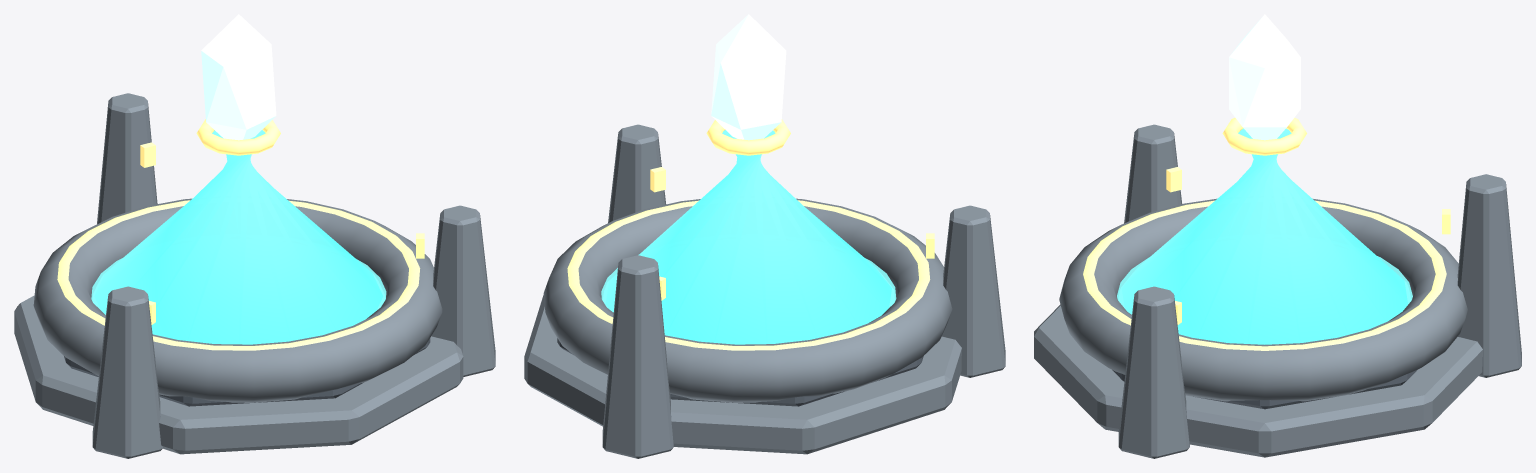
File: Portal.glb
3 views of the same model, side by side, from view 1: azimuth 30°, elevation 25°; view 2: azimuth 150°, elevation 25°; view 3: azimuth 270°, elevation 25° (orthographic).
Visible parts, largest first — view 1: Cone, Torus, Cylinder, Cone.001, Cone.002, Icosphere, Cone.003, Torus.001, Torus.002, Cylinder.001, Circle; view 2: Cone, Torus, Cylinder, Cone.003, Cone.001, Icosphere, Torus.001, Cone.002, Torus.002, Cylinder.001; view 3: Cone, Torus, Cylinder, Cone.003, Cone.002, Icosphere, Torus.001, Cone.001, Torus.002, Cylinder.001, Circle.
Part boxes in pixels (<box>): Cone: <box>94,130,383,344</box>; Torus: <box>33,198,442,402</box>; Cylinder: <box>14,295,463,454</box>; Cone.001: <box>92,286,163,458</box>; Cone.002: <box>431,205,495,376</box>; Icosphere: <box>201,14,276,140</box>; Cone.003: <box>97,93,157,224</box>; Torus.001: <box>57,200,420,350</box>; Torus.002: <box>196,119,280,155</box>; Cylinder.001: <box>64,338,430,406</box>; Circle: <box>91,258,386,310</box>; Cone: <box>605,130,891,344</box>; Torus: <box>543,198,952,402</box>; Cylinder: <box>524,295,961,454</box>; Cone.003: <box>602,255,673,458</box>; Cone.001: <box>942,205,1005,377</box>; Icosphere: <box>711,14,786,140</box>; Torus.001: <box>567,200,930,350</box>; Cone.002: <box>608,124,666,222</box>; Torus.002: <box>706,119,790,155</box>; Cylinder.001: <box>557,338,923,406</box>; Cone: <box>1121,128,1407,344</box>; Torus: <box>1059,198,1467,401</box>; Cylinder: <box>1034,304,1482,457</box>; Cone.003: <box>1457,174,1521,377</box>; Cone.002: <box>1118,286,1189,458</box>; Icosphere: <box>1229,14,1300,140</box>; Torus.001: <box>1083,200,1446,350</box>; Cone.001: <box>1124,124,1182,223</box>; Torus.002: <box>1222,117,1306,155</box>; Cylinder.001: <box>1112,370,1416,409</box>; Circle: <box>1117,256,1412,311</box>.
Bounding box in the file's own units: 2.67 × 2.22 × 2.82.
